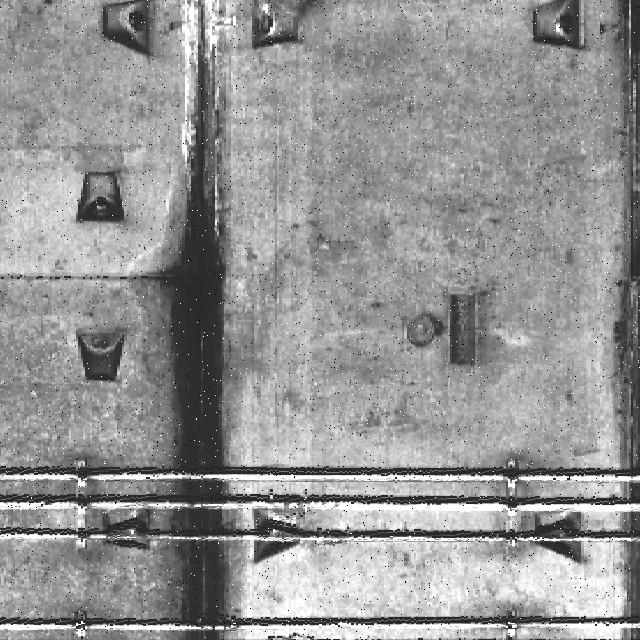leakage: (140, 0, 242, 639)
